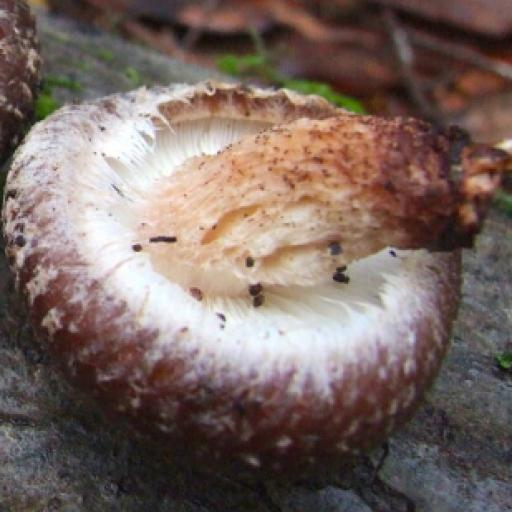Shiitake Mushroom: (0, 62, 480, 474)
